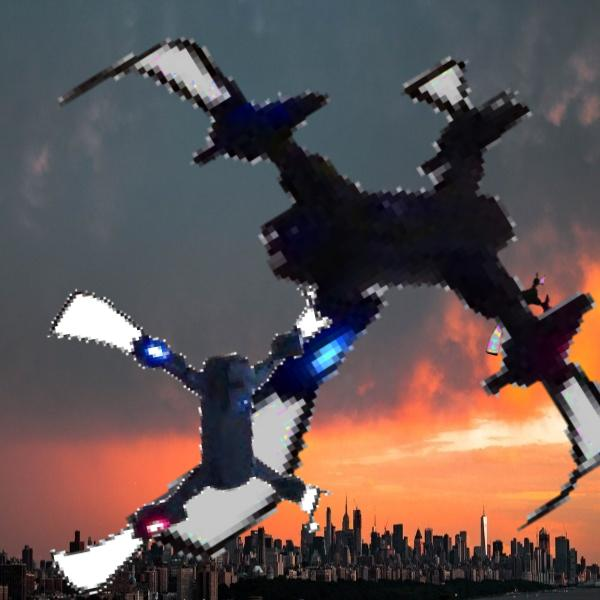drone: (22, 263, 357, 598), (474, 265, 571, 362)
